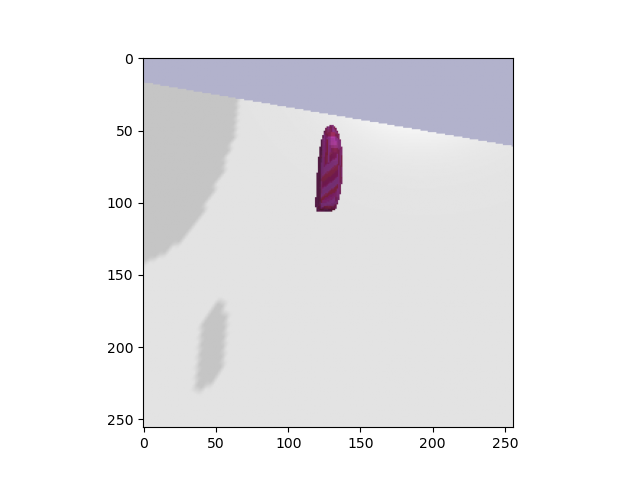v249b387_105: (308, 123, 355, 218)
